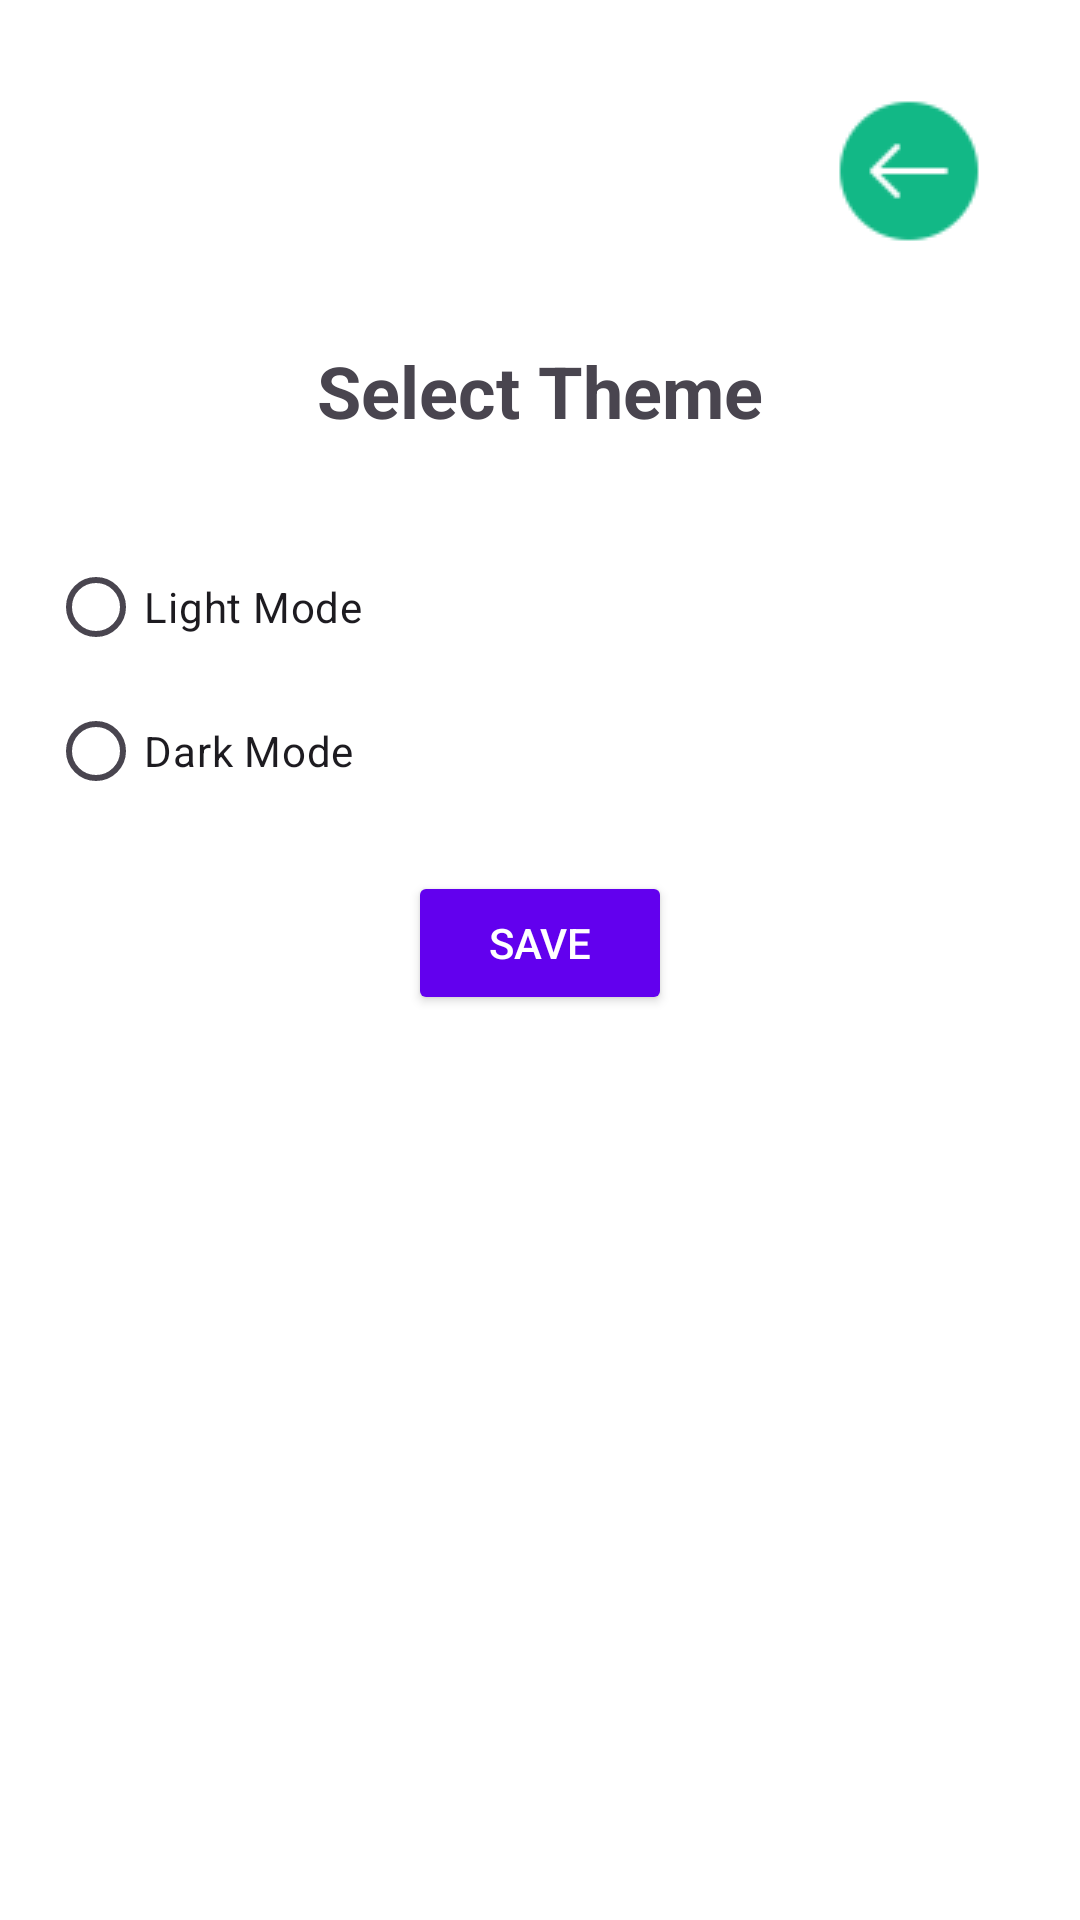

Where icons sit on this 1080x1920 app screen, as (x1, y1, x2, y2):
Back Button: (839, 101, 979, 241)
